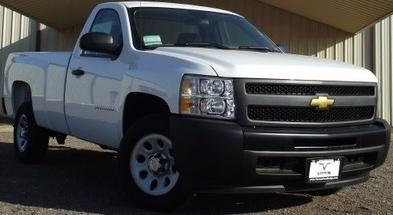front_view: (172, 63, 392, 181)
headlight: (176, 69, 237, 125)
side_glass: (78, 7, 125, 58)
